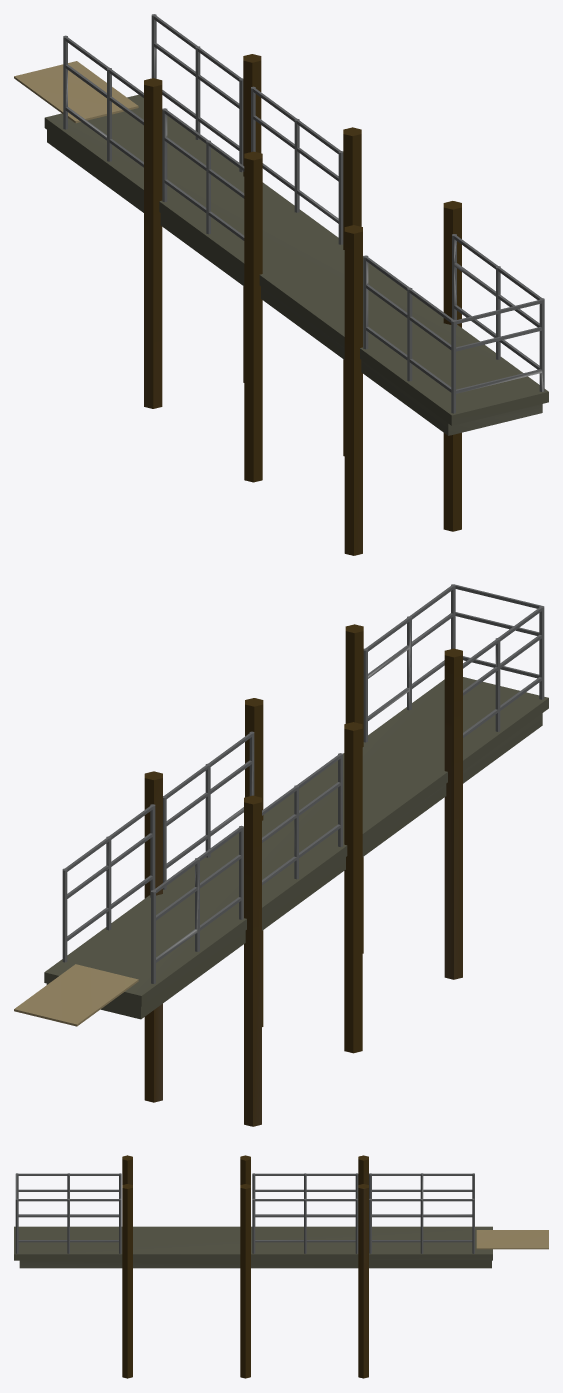
Rendered from DOCKS.fbx.
3 renders of one model, top to bottom at view 1: azimuth 30°, elevation 25°; view 2: azimuth 150°, elevation 25°; view 3: azimuth 270°, elevation 25°, orthographic. The views are drawn at different scales.
Visible parts, largest first — view 1: Cube.003; view 2: Cube.003; view 3: Cube.003.
Boxes of the visible parts, x1=… form: Cube.003: x1=14, y1=14, x2=548, y2=555; Cube.003: x1=14, y1=584, x2=548, y2=1126; Cube.003: x1=14, y1=1155, x2=548, y2=1378.
Size of the model in its own units: 259 by 679 by 1737.
